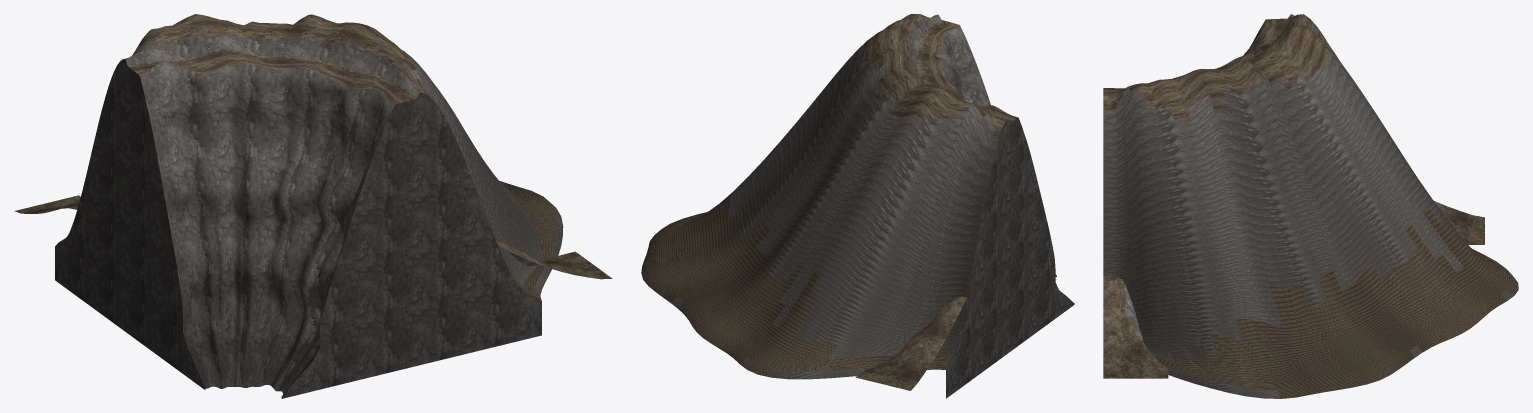
Rendered from seacliff_inner_h8_v5_autumn.glb.
3 views of the same model, side by side, from view 1: azimuth 30°, elevation 25°; view 2: azimuth 150°, elevation 25°; view 3: azimuth 270°, elevation 25° (orthographic). The views are drawn at different scales.
Parts seen in each view (by area): view 1: seacliff_inner_h8; view 2: seacliff_inner_h8; view 3: seacliff_inner_h8.
Part boxes in pixels (x1,y1,x2,y2): seacliff_inner_h8: (14,14,612,398); seacliff_inner_h8: (641,14,1074,398); seacliff_inner_h8: (1103,14,1518,398).
Bounding box in the file's own units: 15.44 × 10.6 × 15.33.
Materials: 2 (2 with a texture image).
